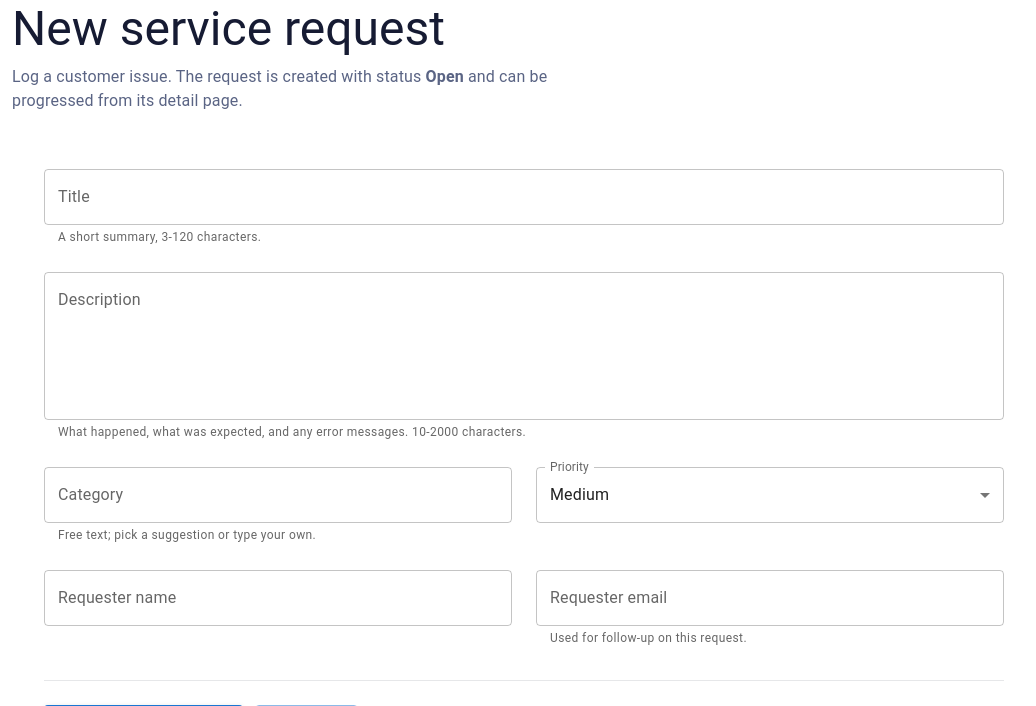
Test: NewRequestPage › shows a page-level alert when the request fails for another reason
In the field labelled "Title": (524,197) [44,169,1004,225], type "Printer offline in the Porto branch"
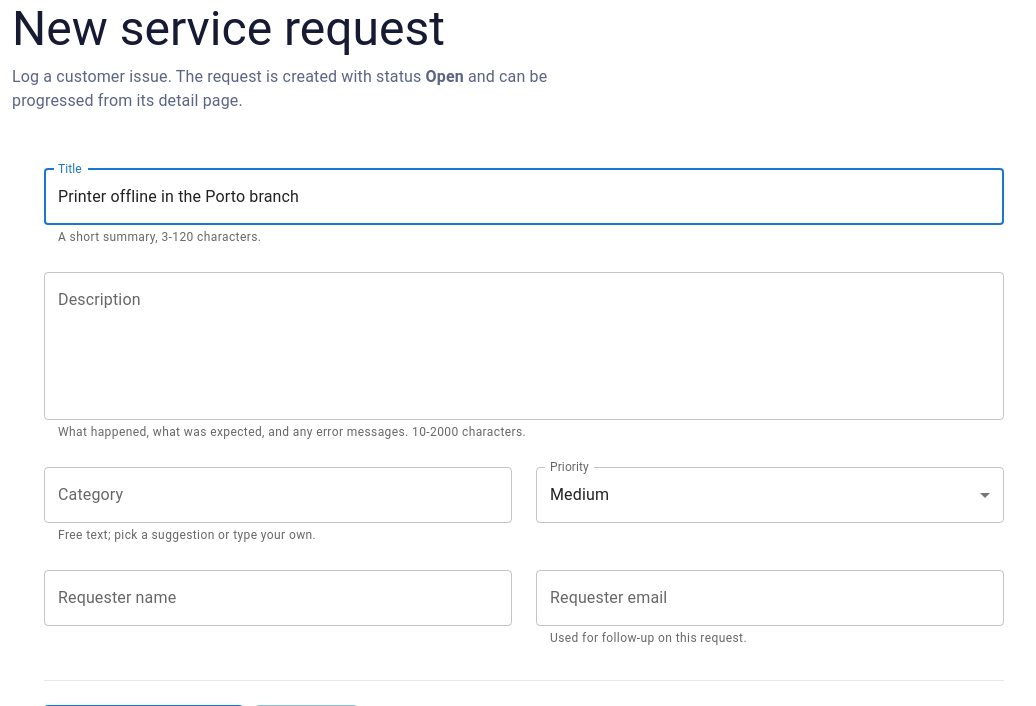
In the text box labelled "Description": (524,346) [58,288,990,403], type "Every print job queued since this morning stays pending and never prints."
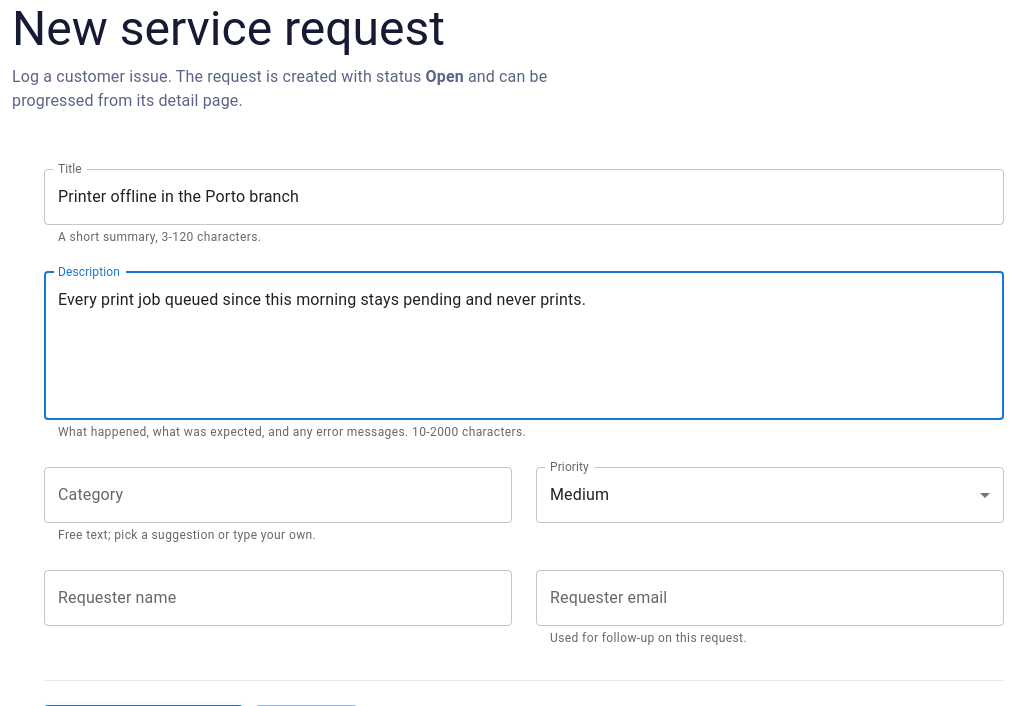
In the field labelled "Category": (278,495) [44,467,512,523], type "Hardware"
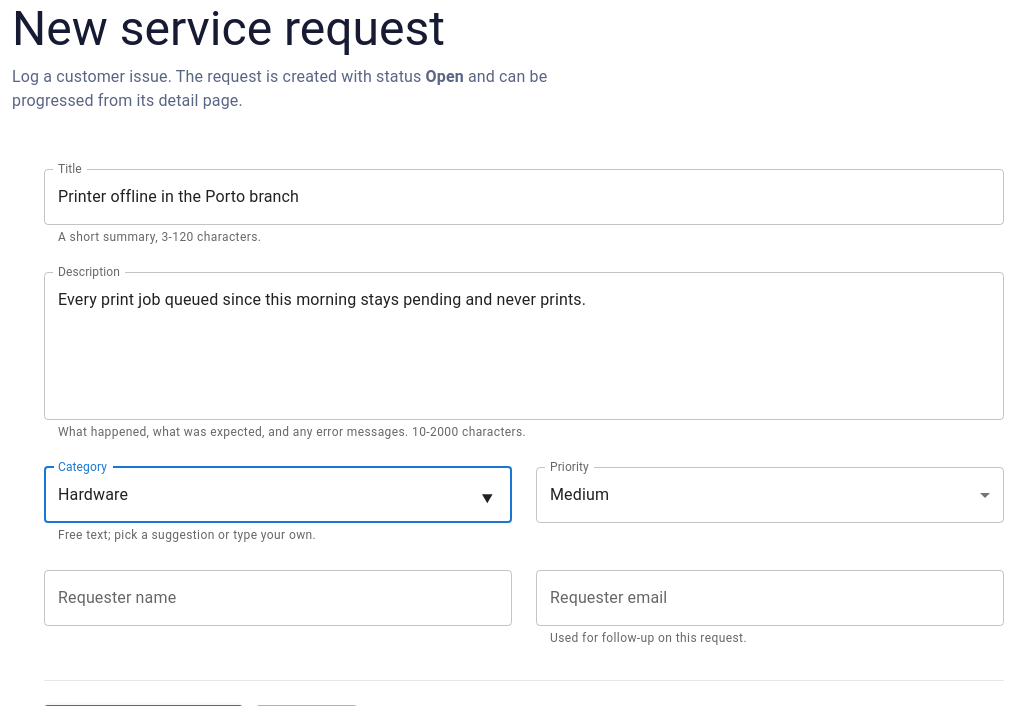
In the field labelled "Requester name": (278,598) [44,570,512,626], type "Rui Marques"
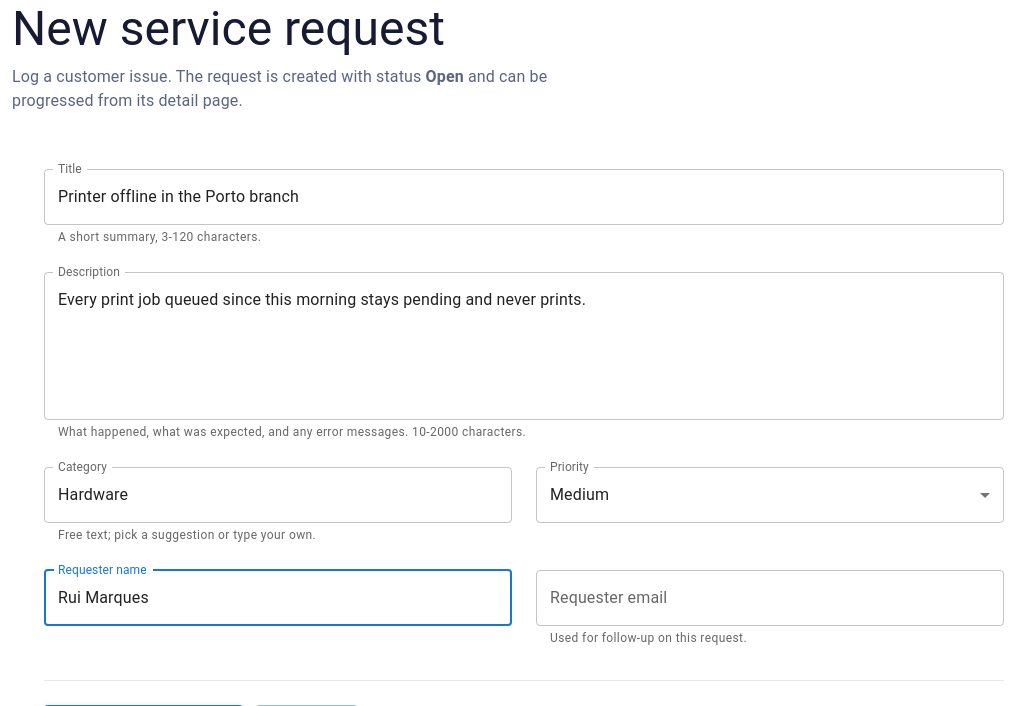
In the field labelled "Requester email": (770,598) [536,570,1004,626], type "rui.marques@example.com"
(page scrolled)
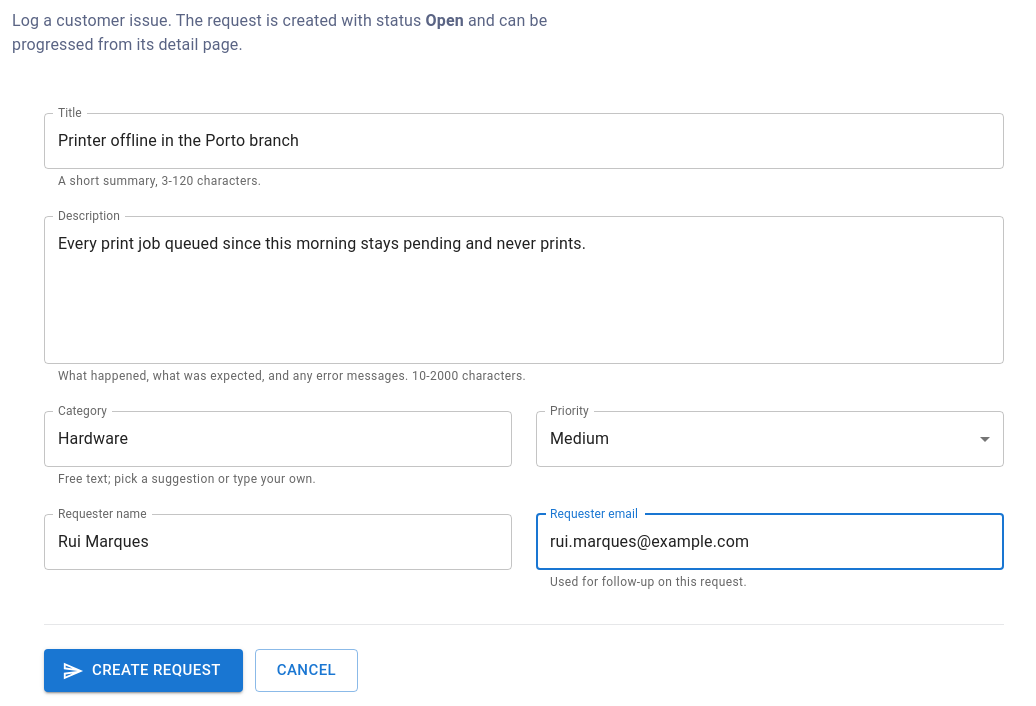
Click the button "Create request": (143,671) [44,649,243,692]
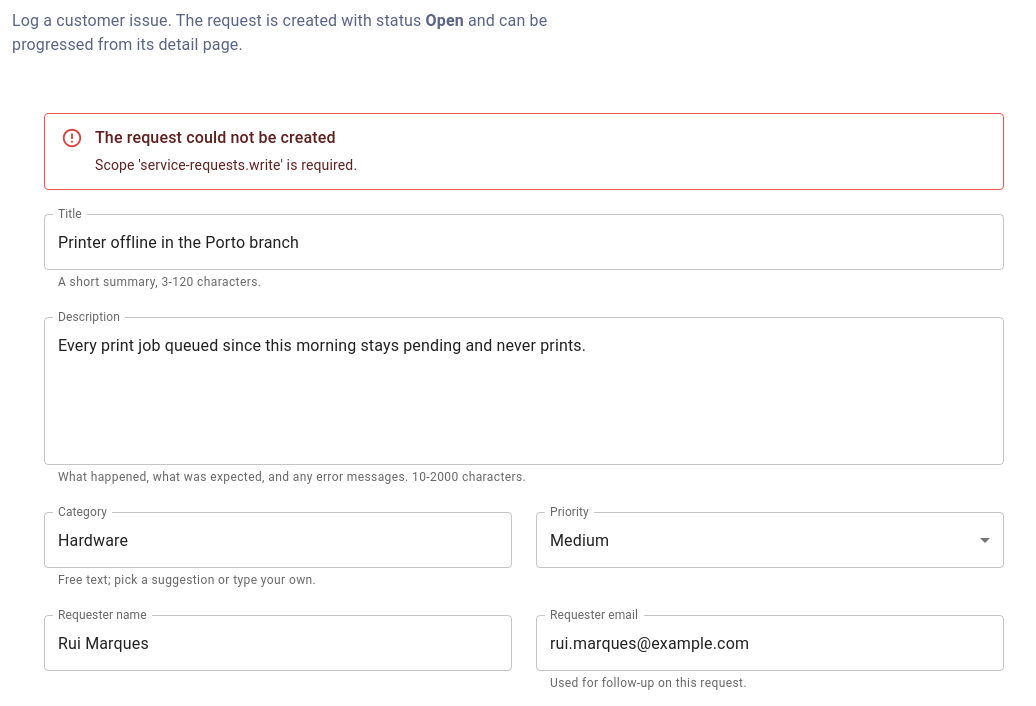
Expected: the text "The request could not be created" is shown, [95,126,357,150]
Expected: the text "Scope 'service-requests.write' is required." is shown, [95,155,357,175]
